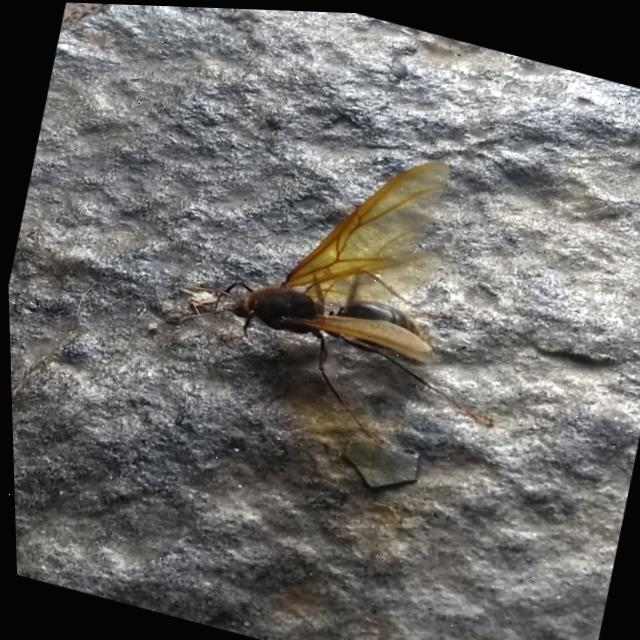Alive-Male-Alate: (153, 98, 548, 469)
